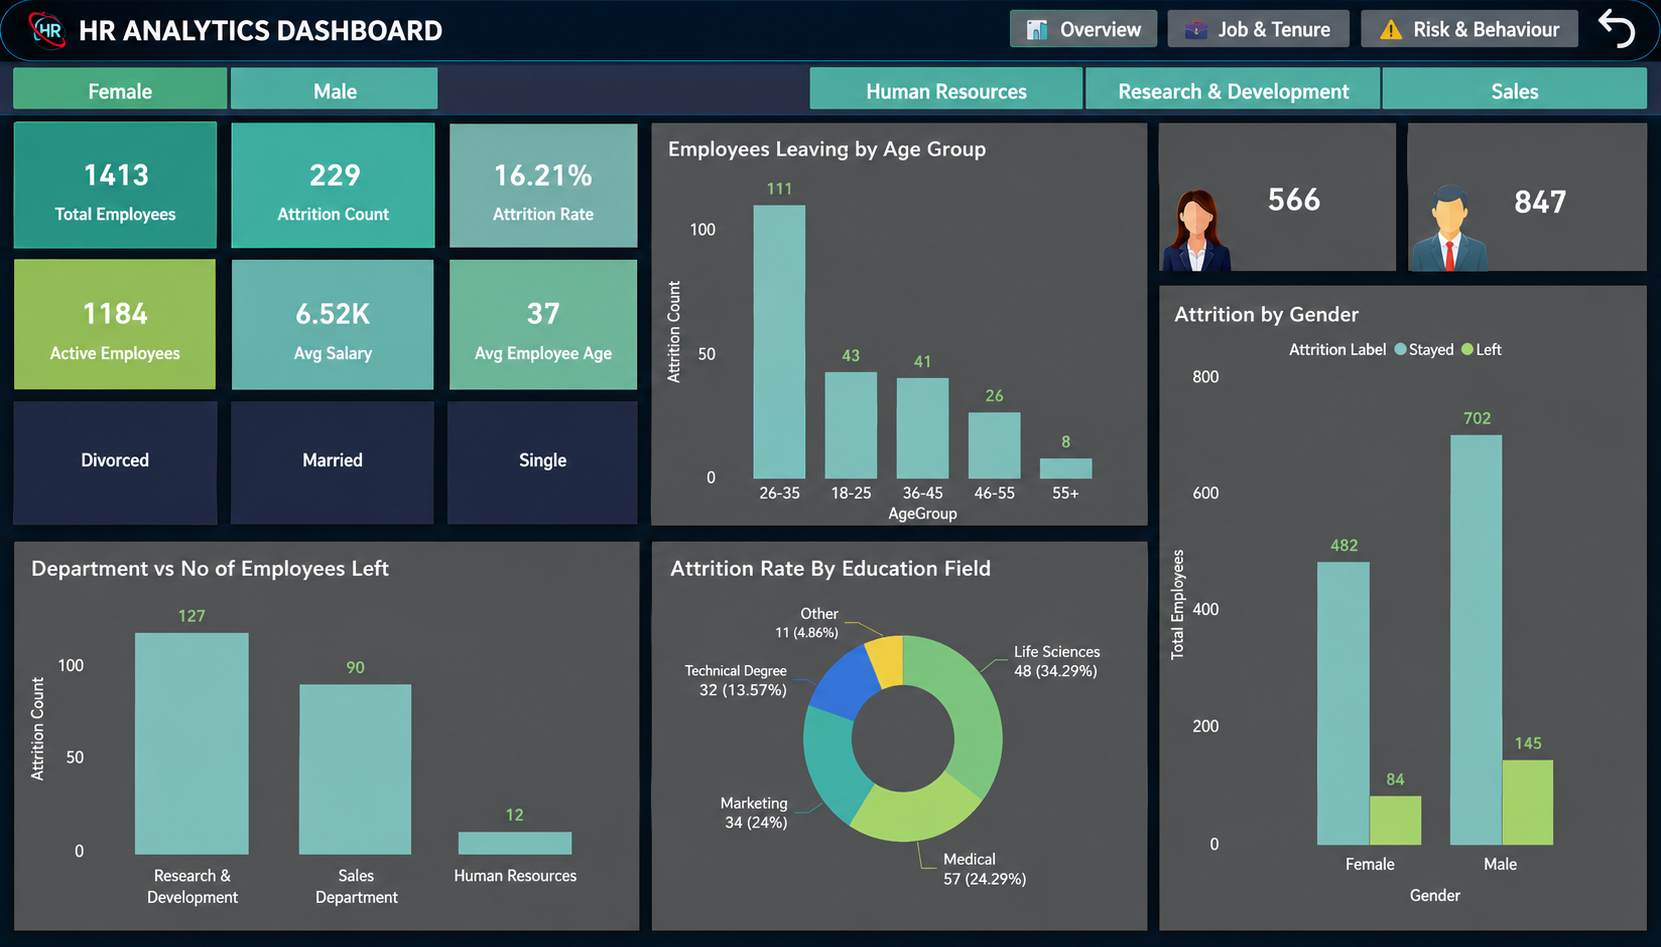

Layout of this report page (visuals, bound fields, positions):
{"tool":"powerbi","page":{"name":"Executive Overview","canvas":[1500,850],"ordinal":0},"visuals":[{"type":"card","fields":{"Values":["HR_Analytics.Total Employees"]},"box":[10,114,182,114],"z":0},{"type":"card","fields":{"Values":["HR_Analytics.Attrition Count"]},"box":[208,114,184,114],"z":1000},{"type":"card","fields":{"Values":["HR_Analytics.Attrition Rate"]},"box":[408,116,184,112],"z":2000},{"type":"card","fields":{"Values":["HR_Analytics.Avg Employee Age"]},"box":[408,238,182,114],"z":3000},{"type":"card","fields":{"Values":["HR_Analytics.Avg Salary"]},"box":[210,238,180,114],"z":4000},{"type":"shape","box":[0,0,1500,57.1],"z":5000},{"type":"textbox","box":[77.6,5.9,367.3,46.8],"z":6000},{"type":"image","box":[0,0,105.4,76.1],"z":7000},{"type":"shape","box":[0,54,1500,52],"z":8000},{"type":"card","fields":{"Values":["HR_Analytics.Active Employees"]},"box":[10,238,182,114],"z":9000},{"type":"donutChart","title":"Attrition Rate By Education Field","fields":{"Y":["HR_Analytics.Attrition Count"],"Category":["HR_Analytics.EducationField"]},"box":[610,490,432,346],"z":10000},{"type":"clusteredColumnChart","title":"Employees Leaving by Age Group","fields":{"Category":["HR_Analytics.AgeGroup"],"Y":["HR_Analytics.Attrition Count"]},"box":[606,116,434,360],"z":11000},{"type":"clusteredColumnChart","title":"Department vs No of Employees Left","fields":{"Category":["HR_Analytics.Department"],"Y":["HR_Analytics.Attrition Count"]},"box":[10,490,586,346],"z":12000},{"type":"advancedSlicerVisual","fields":{"Values":["HR_Analytics.MaritalStatus"]},"box":[8,360,592,120],"z":13000},{"type":"card","fields":{"Values":["HR_Analytics.Male"]},"box":[1278,116,212,140],"z":14000},{"type":"card","fields":{"Values":["HR_Analytics.Female"]},"box":[1054,116,214,140],"z":15000},{"type":"image","box":[1264,186,102,70],"z":16000},{"type":"image","box":[1042,174,84,92],"z":17000},{"type":"slicer","fields":{"Values":["HR_Analytics.Gender"]},"box":[10,54,394,44],"z":18000},{"type":"actionButton","title":"Overview","box":[911.7,10,136.7,33.3],"z":19000},{"type":"actionButton","title":"Job and Tenure","box":[1045,10,185,33.3],"z":20000},{"type":"slicer","fields":{"Values":["HR_Analytics.Department"]},"box":[702,54,798,50],"z":21000},{"type":"actionButton","box":[1436.7,0,58.3,48.3],"z":22000},{"type":"actionButton","title":"Overview","box":[1226.7,8.3,205,35],"z":23000},{"type":"clusteredColumnChart","title":"Attrition by Gender","fields":{"Series":["HR_Analytics.Attrition Label"],"Y":["CountNonNull(HR_Analytics.EmpID)"],"Category":["HR_Analytics.Gender"]},"box":[1053.3,265,436.7,571.7],"z":24000}]}

Visuals, with their boxes in screenshot pixels (x1, y1, x2, y2), scaled from the page's 1500x850 canvas onto the 1661x947 screenshot:
card - HR_Analytics.Total Employees: rect(11, 127, 213, 254)
card - HR_Analytics.Attrition Count: rect(230, 127, 434, 254)
card - HR_Analytics.Attrition Rate: rect(452, 129, 656, 254)
card - HR_Analytics.Avg Employee Age: rect(452, 265, 653, 392)
card - HR_Analytics.Avg Salary: rect(233, 265, 432, 392)
shape: rect(0, 0, 1660, 64)
textbox: rect(86, 7, 493, 59)
image: rect(0, 0, 117, 85)
shape: rect(0, 60, 1660, 118)
card - HR_Analytics.Active Employees: rect(11, 265, 213, 392)
"Attrition Rate By Education Field" donutChart: rect(675, 546, 1154, 931)
"Employees Leaving by Age Group" clusteredColumnChart: rect(671, 129, 1152, 530)
"Department vs No of Employees Left" clusteredColumnChart: rect(11, 546, 660, 931)
advancedSlicerVisual - HR_Analytics.MaritalStatus: rect(9, 401, 664, 535)
card - HR_Analytics.Male: rect(1415, 129, 1650, 285)
card - HR_Analytics.Female: rect(1167, 129, 1404, 285)
image: rect(1400, 207, 1513, 285)
image: rect(1154, 194, 1247, 296)
slicer - HR_Analytics.Gender: rect(11, 60, 447, 109)
"Overview" actionButton: rect(1010, 11, 1161, 48)
"Job and Tenure" actionButton: rect(1157, 11, 1362, 48)
slicer - HR_Analytics.Department: rect(777, 60, 1660, 116)
actionButton: rect(1591, 0, 1655, 54)
"Overview" actionButton: rect(1358, 9, 1585, 48)
"Attrition by Gender" clusteredColumnChart: rect(1166, 295, 1650, 932)
